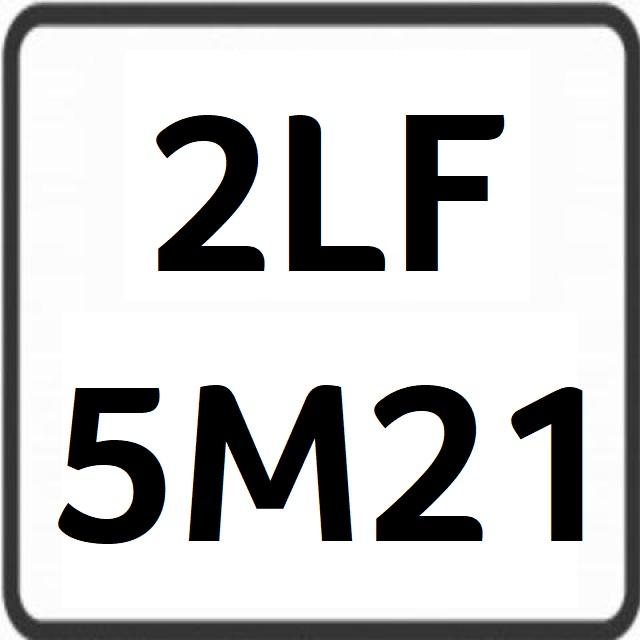1: (510, 356, 594, 556)
2: (369, 369, 492, 564), (149, 92, 269, 288)
5: (48, 360, 168, 562)
F: (395, 79, 507, 277)
L: (287, 92, 389, 280)
M: (188, 365, 358, 551)
